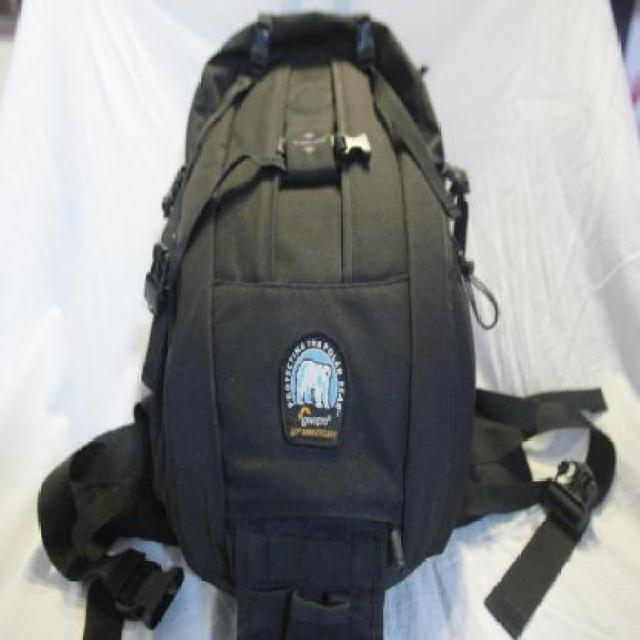backpack: (137, 3, 488, 640)
